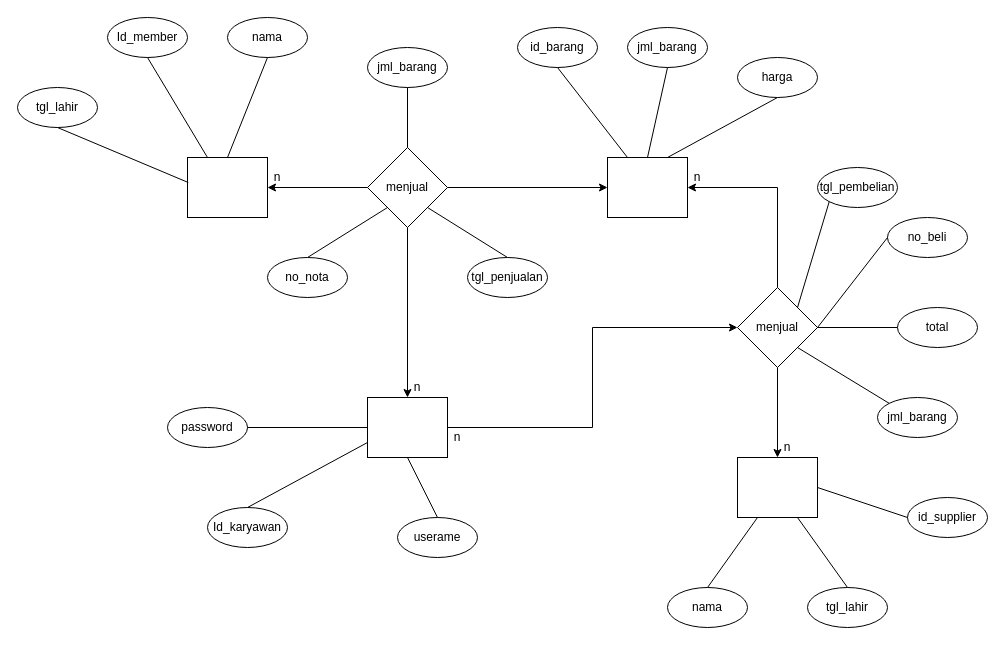
Some shapes in this 1005 by 645 pixel diagram are drawn without their labels. The shapes that lost their labels are listed below. From the top down, each one's centre as x and y in pixels, then its label:
At (x=227, y=187): "member".
At (x=647, y=187): "barang".
At (x=407, y=427): "karyawan".
At (x=777, y=487): "supplier".
